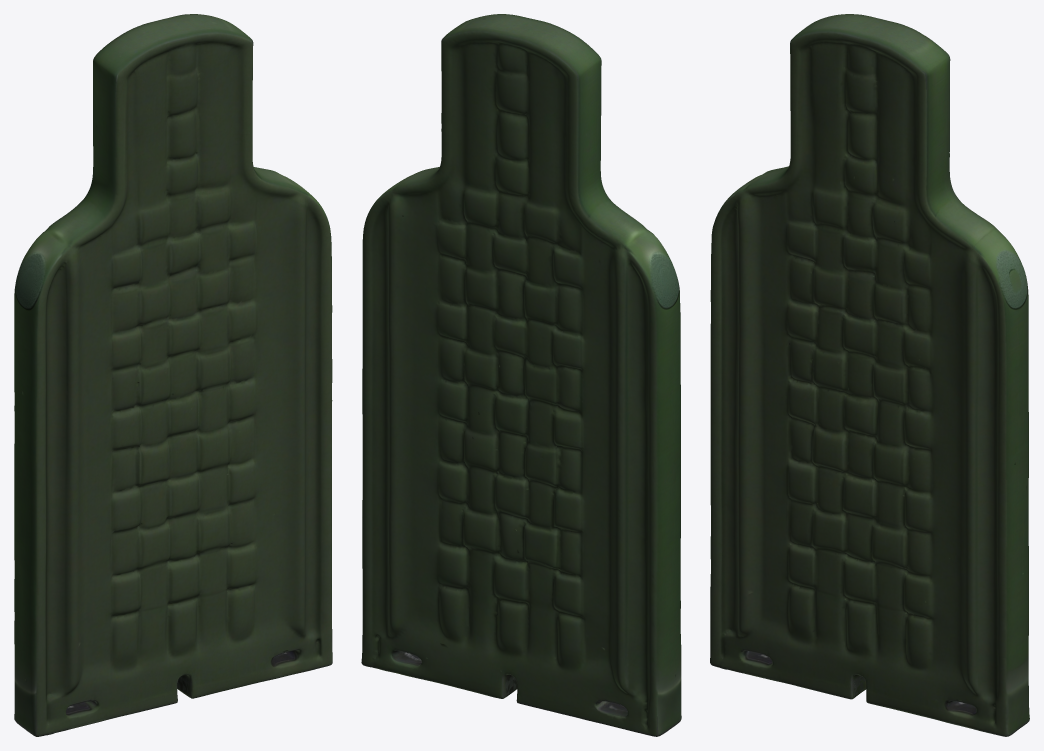
File: target.glb
The picture shows the model from 3 angles, left to right: view 1: azimuth 30°, elevation 25°; view 2: azimuth 150°, elevation 25°; view 3: azimuth 330°, elevation 25°; orthographic projection.
Visible parts, largest first — view 1: Object_4, Object_5; view 2: Object_5, Object_4; view 3: Object_4, Object_5.
Part boxes in pixels (x1,y1,x2,y2): Object_4: [14, 20, 332, 736]; Object_5: [14, 14, 301, 728]; Object_5: [361, 16, 680, 736]; Object_4: [362, 14, 681, 728]; Object_4: [710, 19, 1028, 736]; Object_5: [729, 14, 1029, 731].
Bounding box in the file's own units: 0.9505 × 2 × 0.1688.
Materials: 1 (1 with a texture image).
